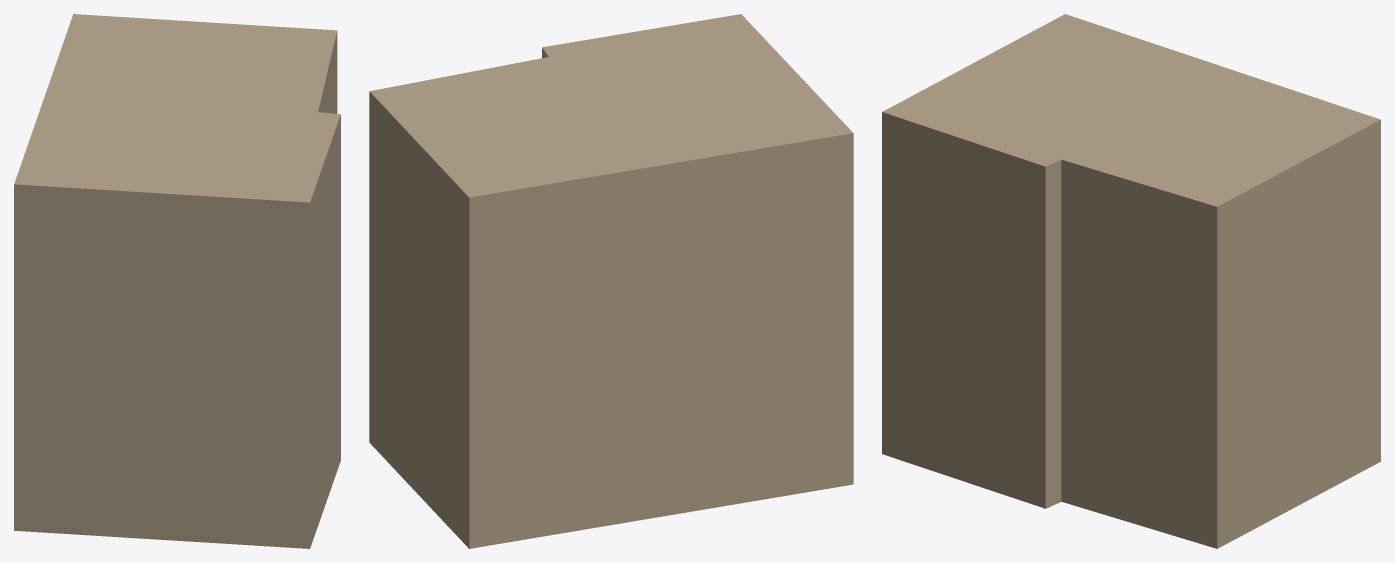
Rendered from bld_99520007.dae.
The picture shows the model from 3 angles, left to right: view 1: azimuth 30°, elevation 25°; view 2: azimuth 150°, elevation 25°; view 3: azimuth 270°, elevation 25°; orthographic projection. The views are drawn at different scales.
Parts seen in each view (by area): view 1: bld_99520007; view 2: bld_99520007; view 3: bld_99520007.
Boxes of the visible parts, x1,y1,x2,y2 form: bld_99520007: (14,14,340,548); bld_99520007: (369,14,853,548); bld_99520007: (882,14,1380,548).
Size of the model in its own units: 9.67 by 10.57 by 8.
